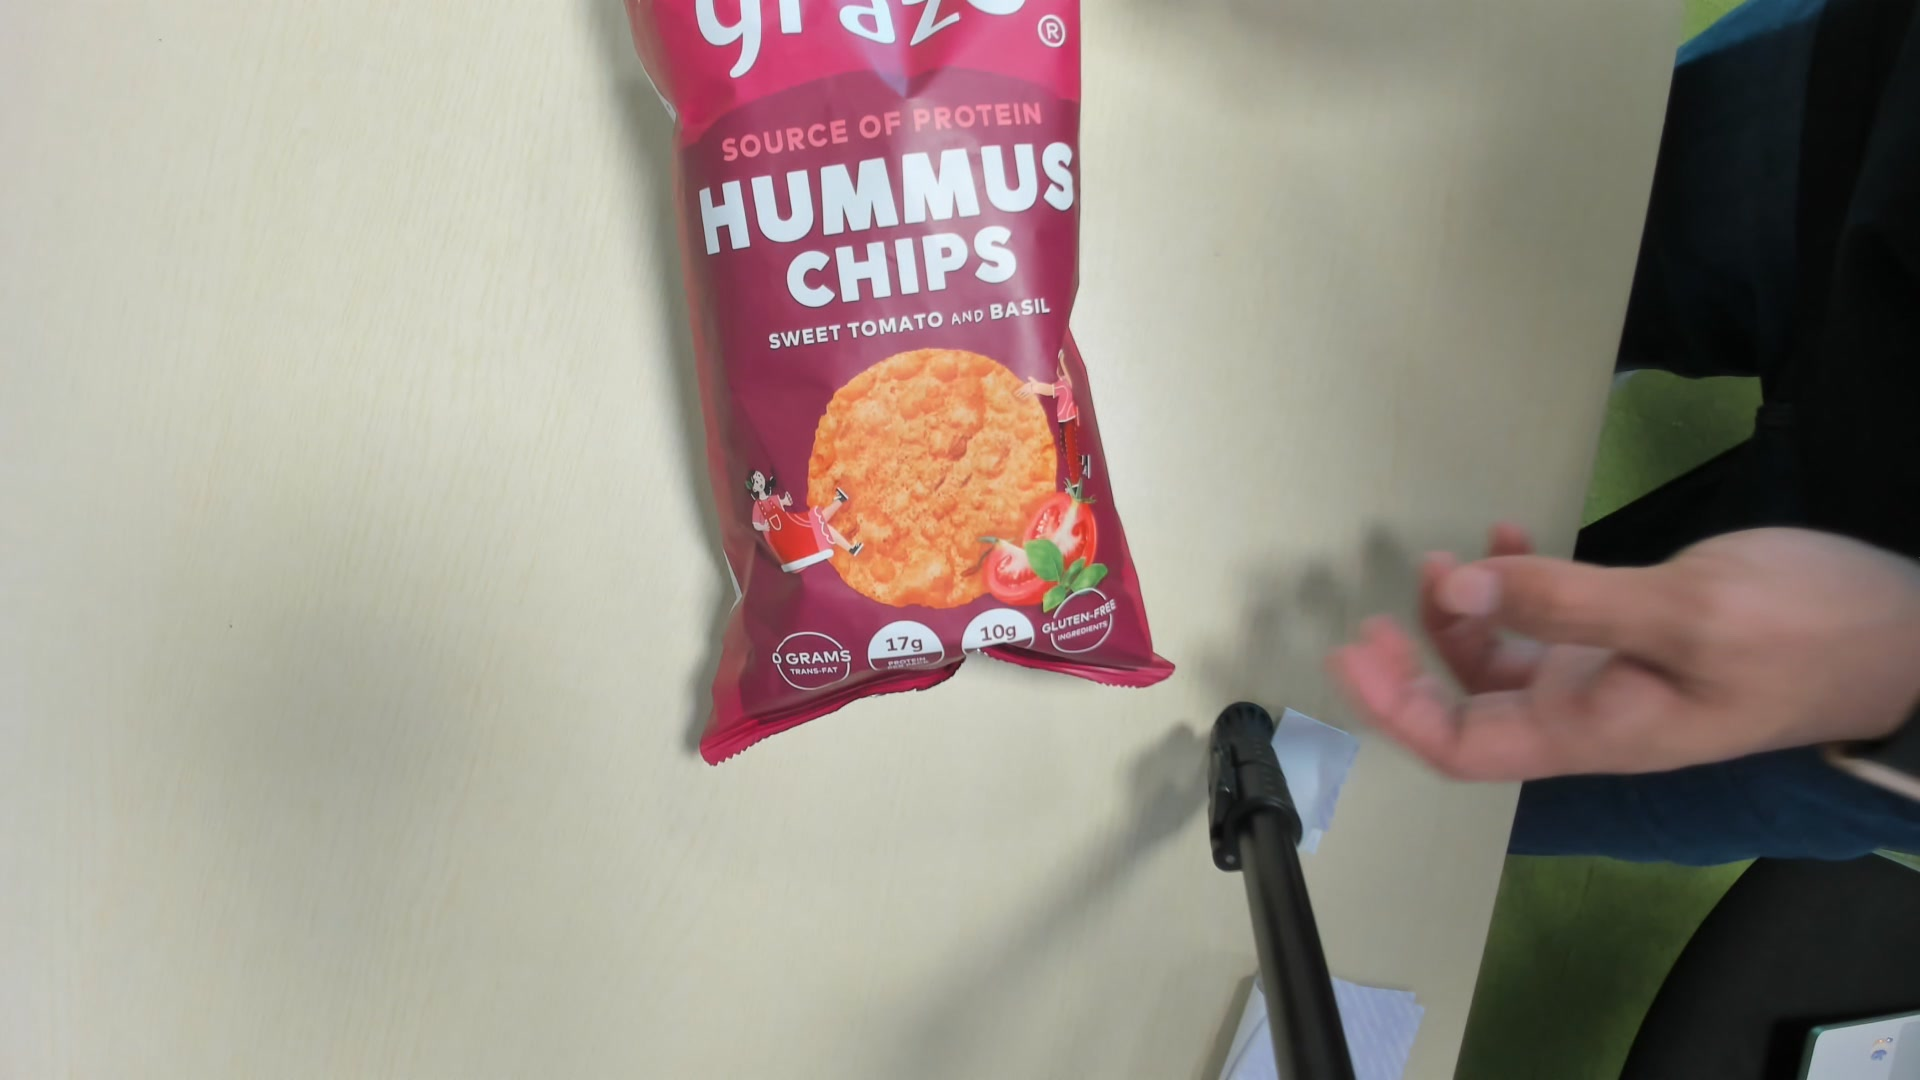PotatoChipsKeropok_100-199g_NonHalal_NonHealthy: (640, 3, 1166, 767)
